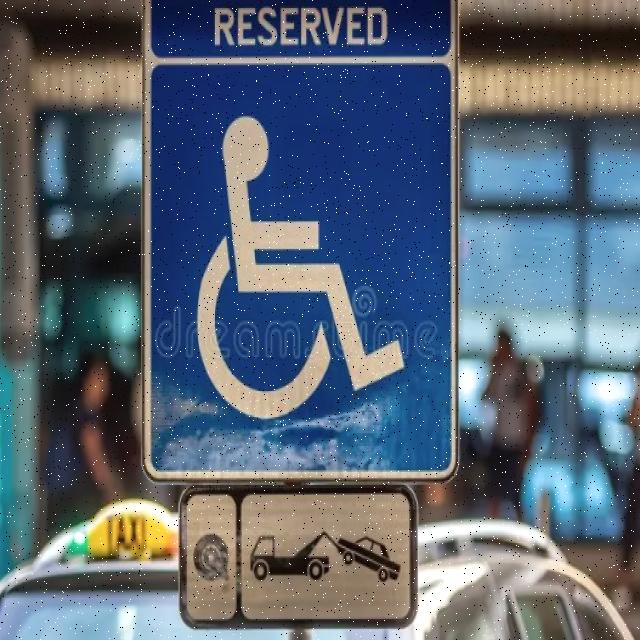symbol_of_access: (145, 61, 456, 480)
